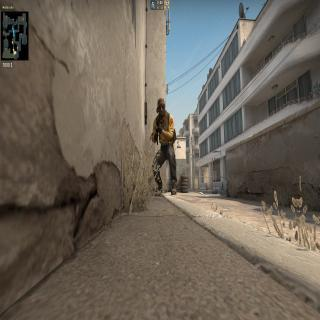T-Head: (156, 95, 166, 120)
